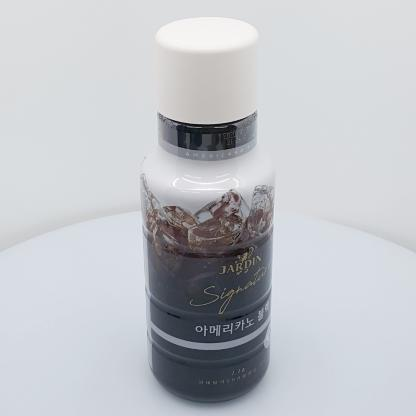-------------1-1L: (140, 17, 276, 402)
